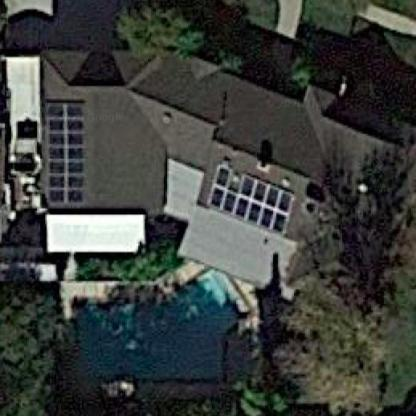solar_panel: (39, 274, 243, 393), (197, 155, 296, 235), (41, 93, 95, 206)
